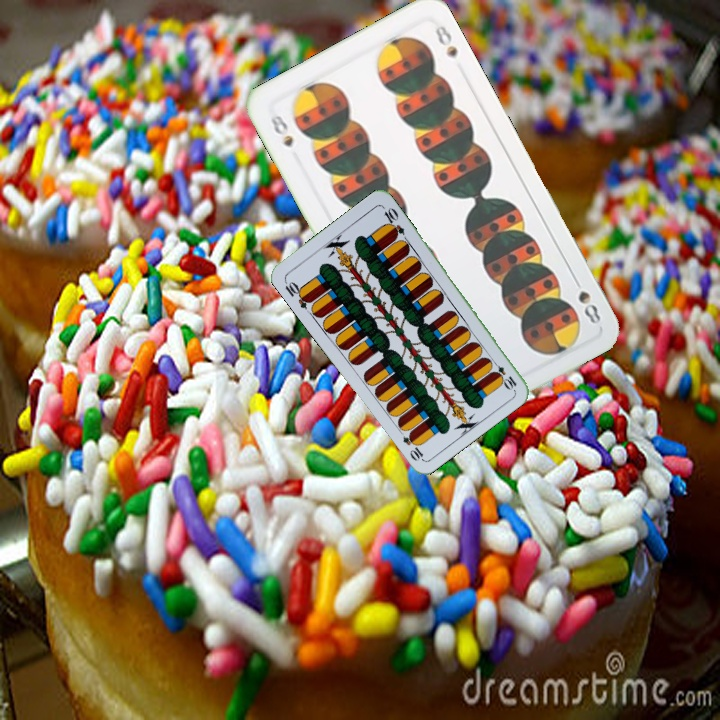E10: (280, 276, 314, 311), (487, 356, 519, 392)
S8: (568, 272, 604, 327), (266, 111, 296, 150)
